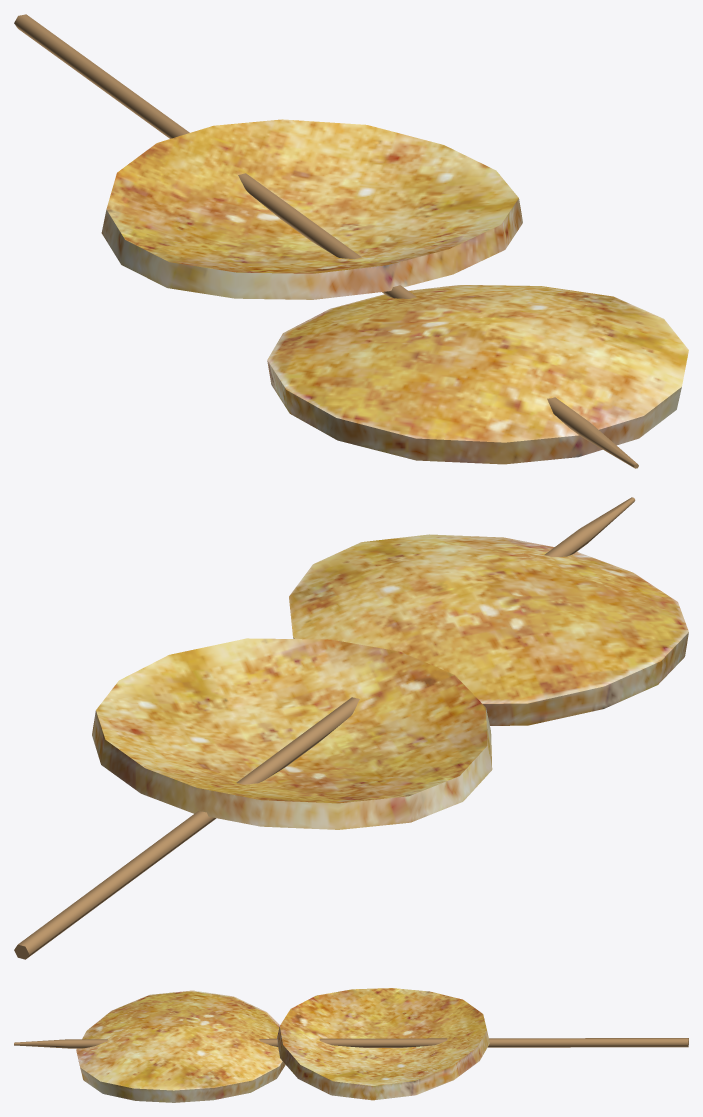
Rendered from PotatoSkewers.glb.
The picture shows the model from 3 angles, top to bottom: view 1: azimuth 30°, elevation 25°; view 2: azimuth 150°, elevation 25°; view 3: azimuth 270°, elevation 25°; orthographic projection. The views are drawn at different scales.
Visible parts, largest first — view 1: tudoupian; view 2: tudoupian; view 3: tudoupian.
Boxes of the visible parts, box(x1,y1,x2,y2) form: tudoupian: box(14, 14, 688, 468); tudoupian: box(14, 497, 688, 959); tudoupian: box(14, 988, 688, 1102).
Size of the model in its own units: 1.06 by 0.1724 by 2.97.
1 material, 1 textured.
